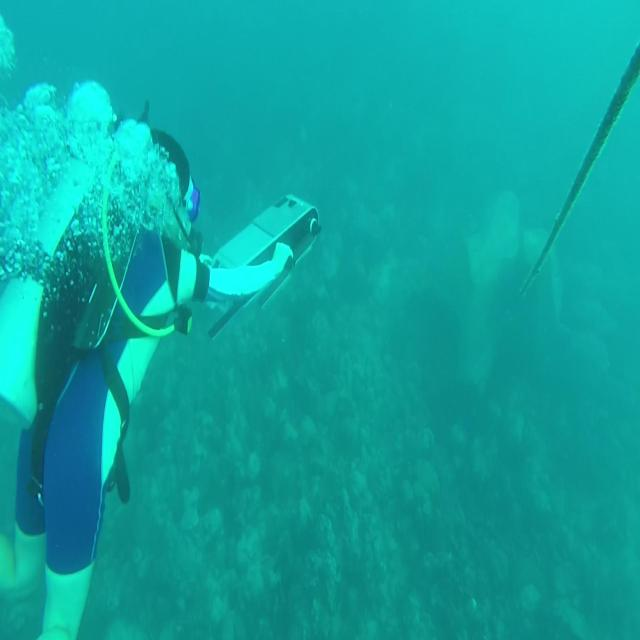human: (3, 117, 304, 637)
